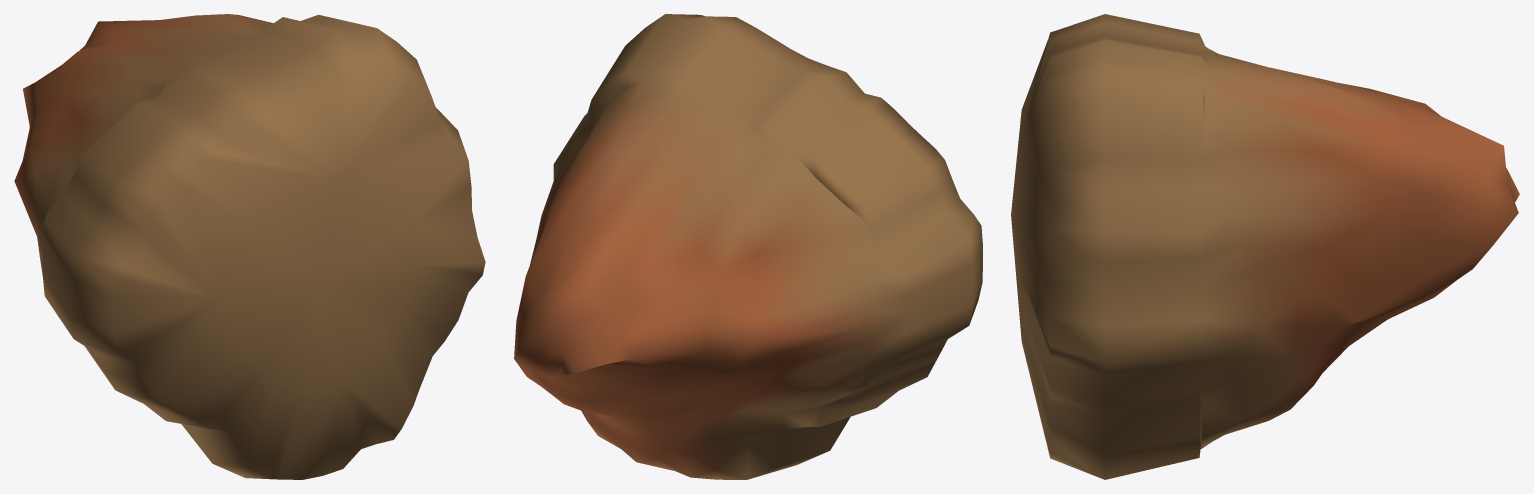
The model's file is RedStoneMountain.001.glb.
3 renders of one model, left to right at view 1: azimuth 30°, elevation 25°; view 2: azimuth 150°, elevation 25°; view 3: azimuth 270°, elevation 25°, orthographic.
Parts seen in each view (by area): view 1: RedStoneMountain.001; view 2: RedStoneMountain.001; view 3: RedStoneMountain.001.
Boxes of the visible parts, x1=… form: RedStoneMountain.001: x1=14, y1=14, x2=485, y2=479; RedStoneMountain.001: x1=514, y1=14, x2=982, y2=479; RedStoneMountain.001: x1=1011, y1=14, x2=1519, y2=479.
Bounding box in the file's own units: 2789 × 2848 × 2981.
